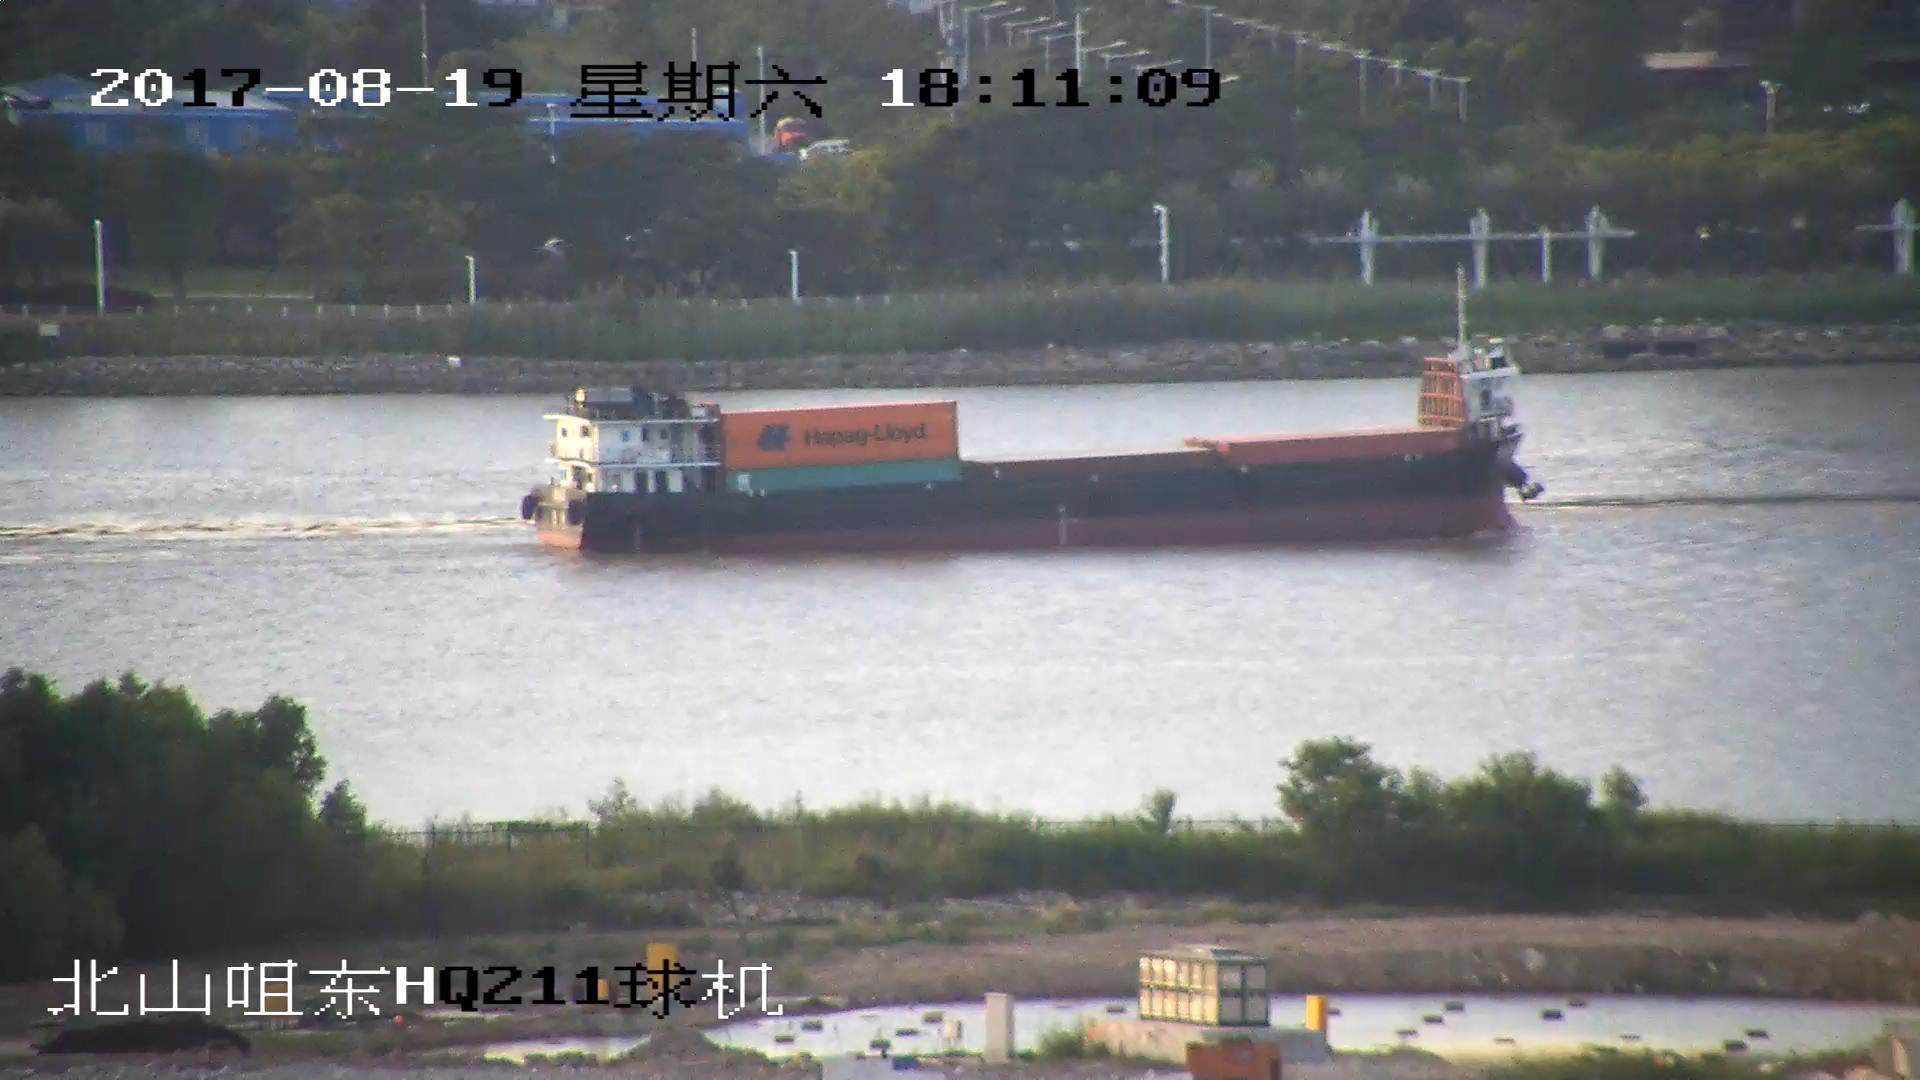container ship: (525, 305, 1544, 556)
